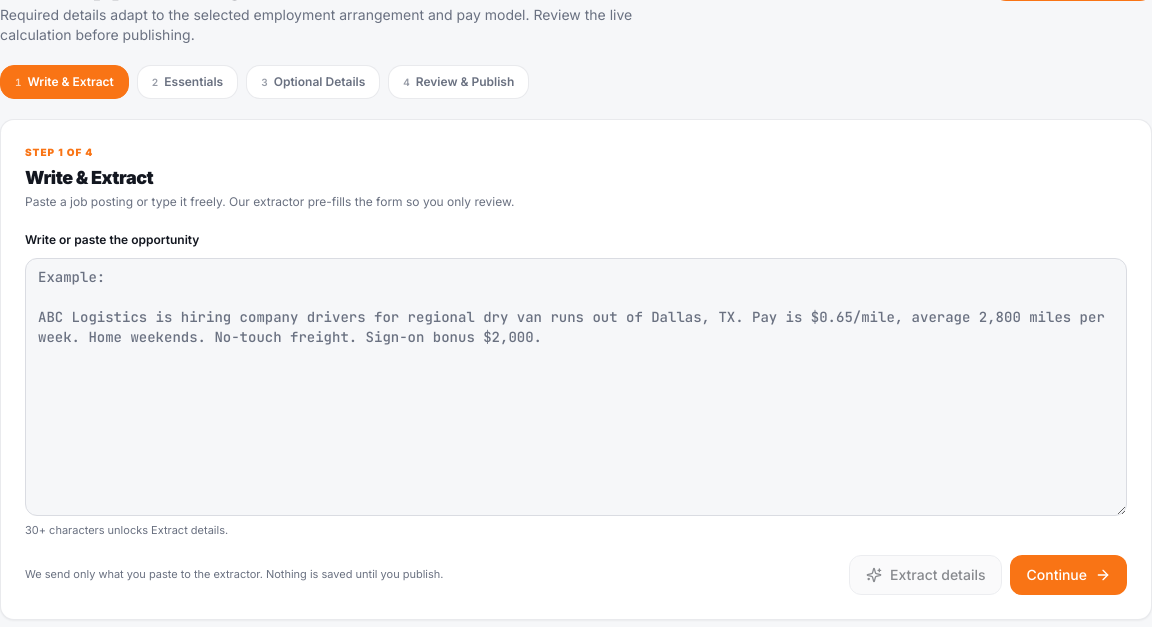
Scenario: Phase 1O-A — employment-driven cost visibility (Optional Details) › lease-purchase exposes the lease payment cost row
The image size is (1152, 627).
Click the tab "2Essentials".
click(188, 82)  # box [137,65,238,99]
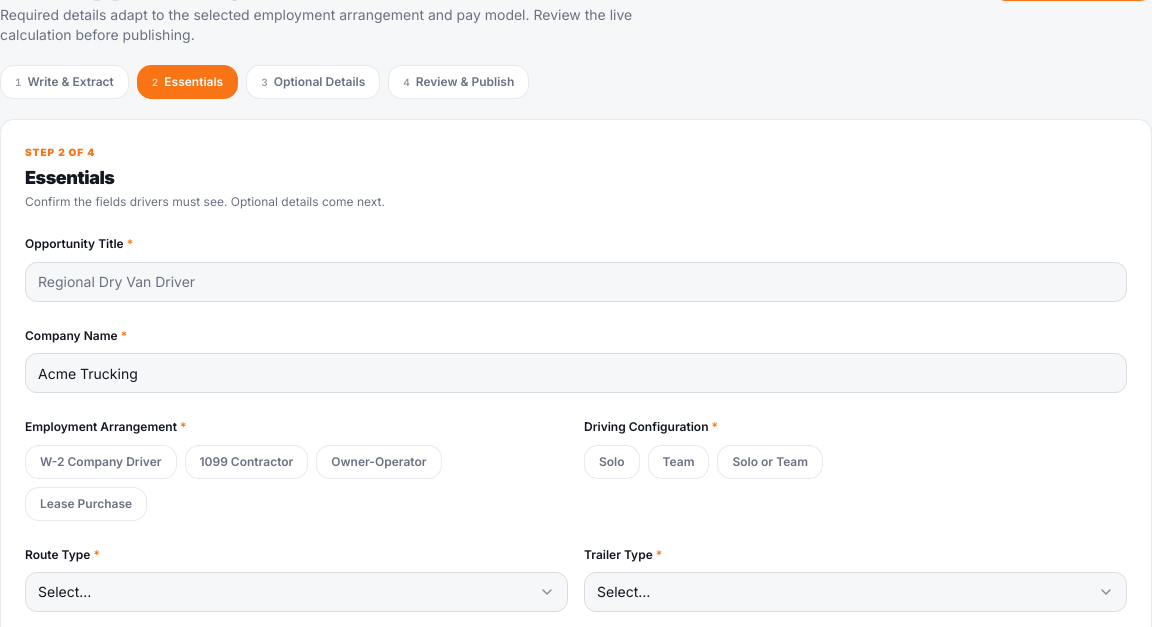
Click the button "Lease Purchase".
click(86, 504)  # box [25,487,147,521]
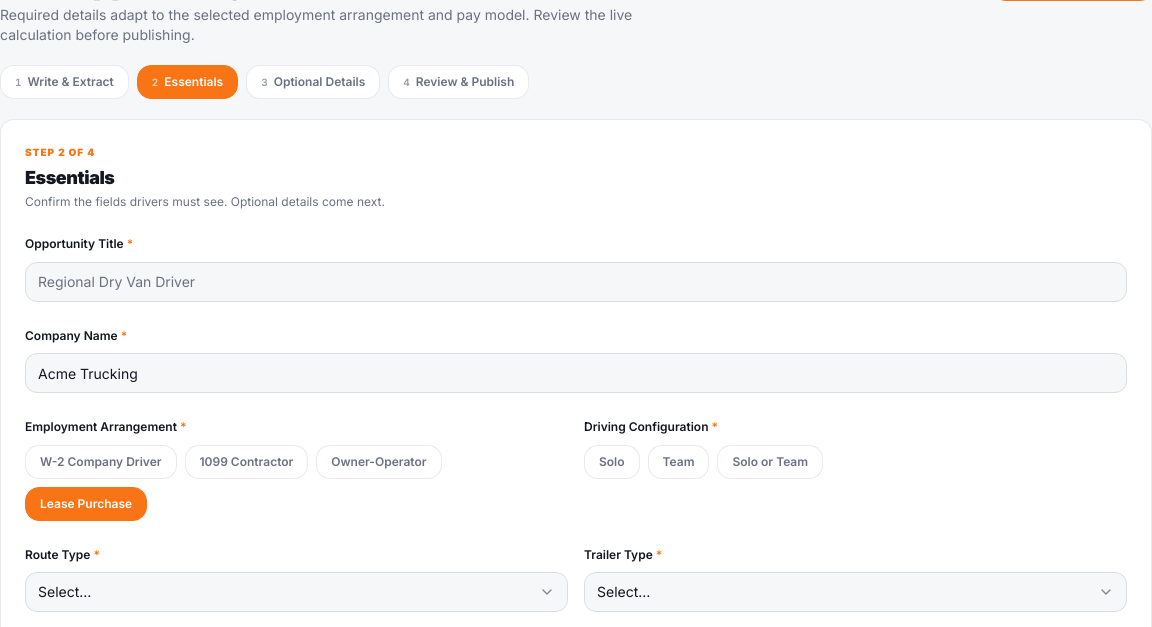
Click the tab "3Optional Details".
click(313, 82)  # box [246,65,380,99]
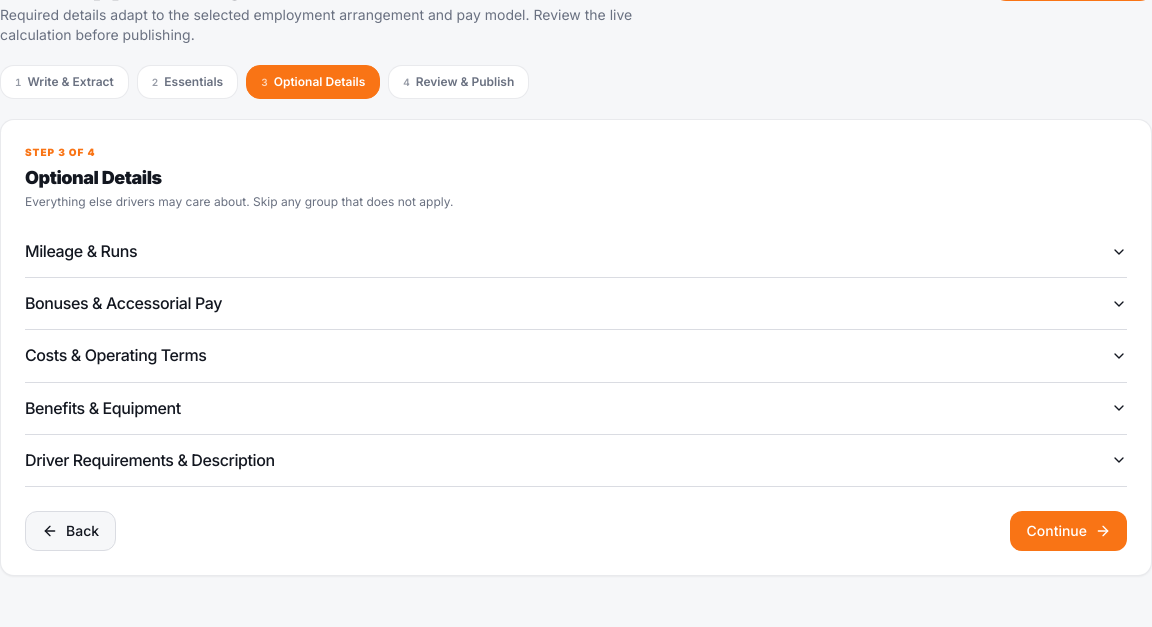
Click the button "Costs & Operating Terms".
click(116, 355)  # box [25,330,1127,382]
(page scrolled)
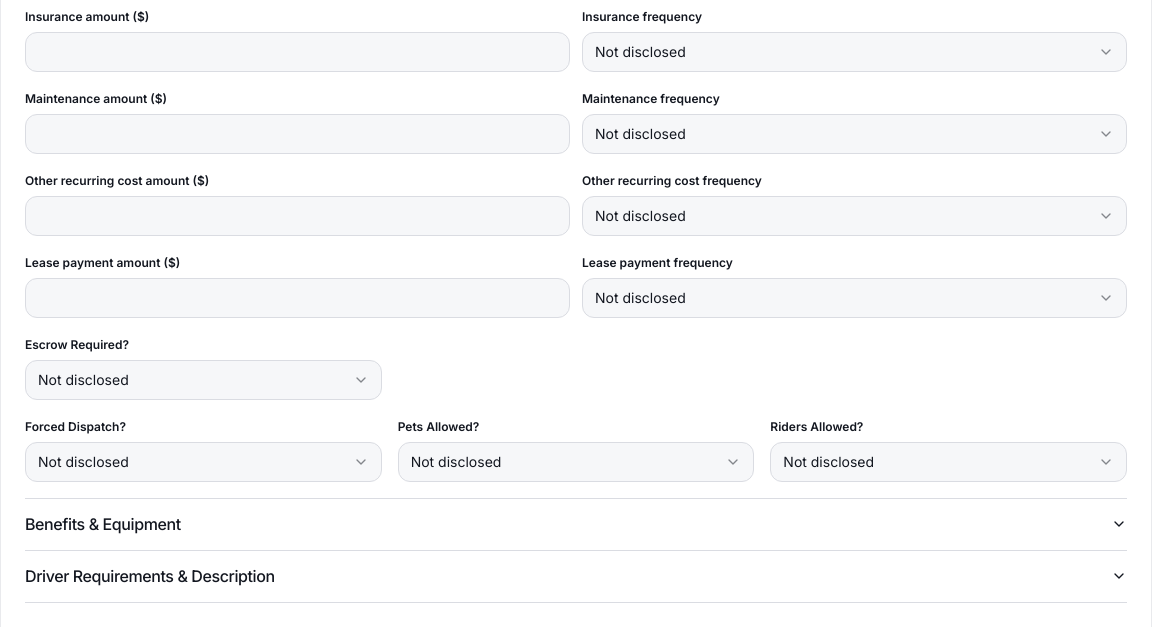
Expected: the number field named "Lease payment amount ($)" is shown, [25,278,570,318]
Expected: the dropdown named "Lease payment frequency" is shown, [582,278,1127,318]
